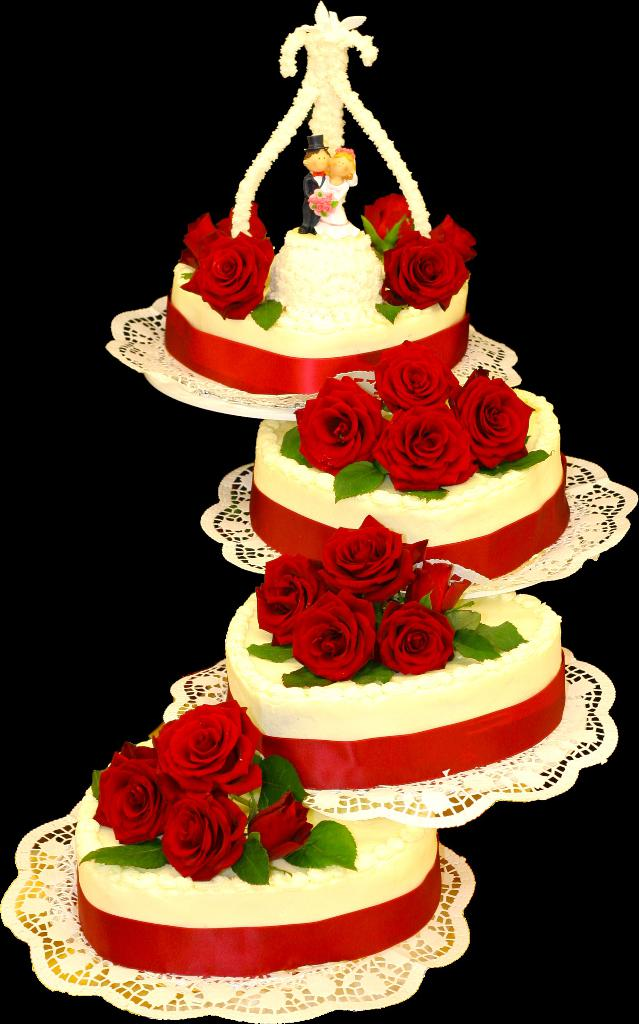cake: (74, 798, 441, 980), (224, 590, 562, 786), (252, 419, 560, 567), (168, 259, 467, 392)
